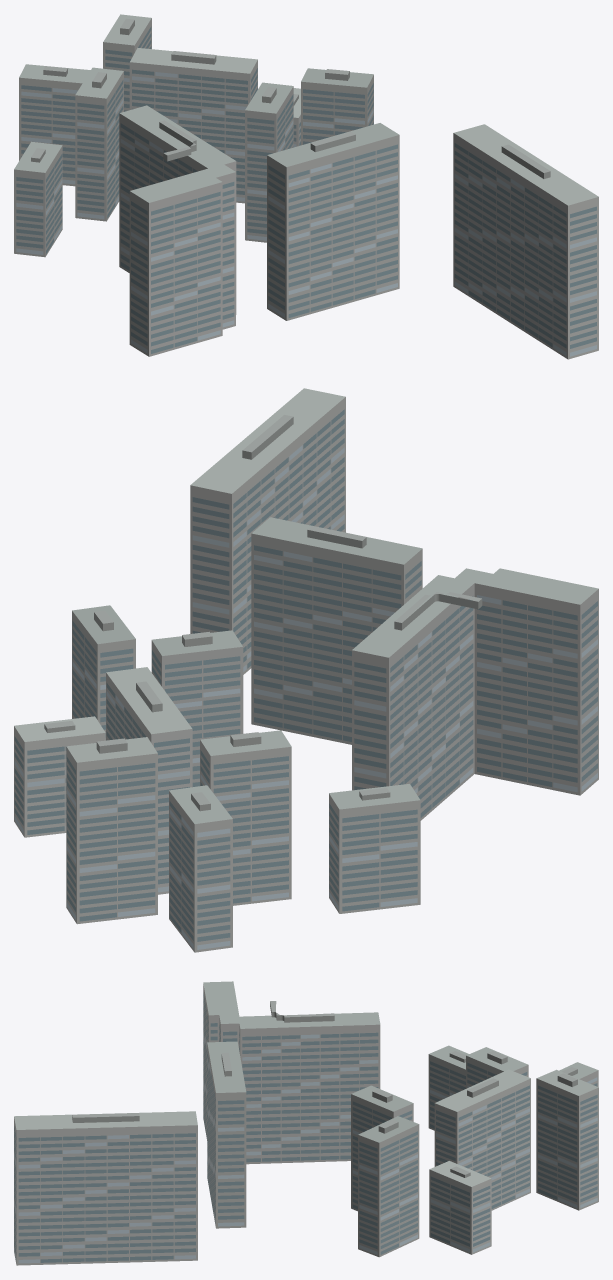
File: apt-a13606002.glb
The picture shows the model from 3 angles, top to bottom: view 1: azimuth 30°, elevation 25°; view 2: azimuth 150°, elevation 25°; view 3: azimuth 270°, elevation 25°; orthographic projection. The views are drawn at different scales.
Parts seen in each view (by area): view 1: apt-a13606002; view 2: apt-a13606002; view 3: apt-a13606002.
Boxes of the visible parts, x1,y1,x2,y2 form: apt-a13606002: (14, 14, 598, 359); apt-a13606002: (14, 388, 598, 952); apt-a13606002: (14, 981, 598, 1265).
Size of the model in its own units: 144 by 63.4 by 239.
